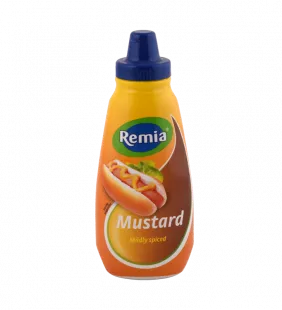REMIA: (84, 20, 204, 291)
